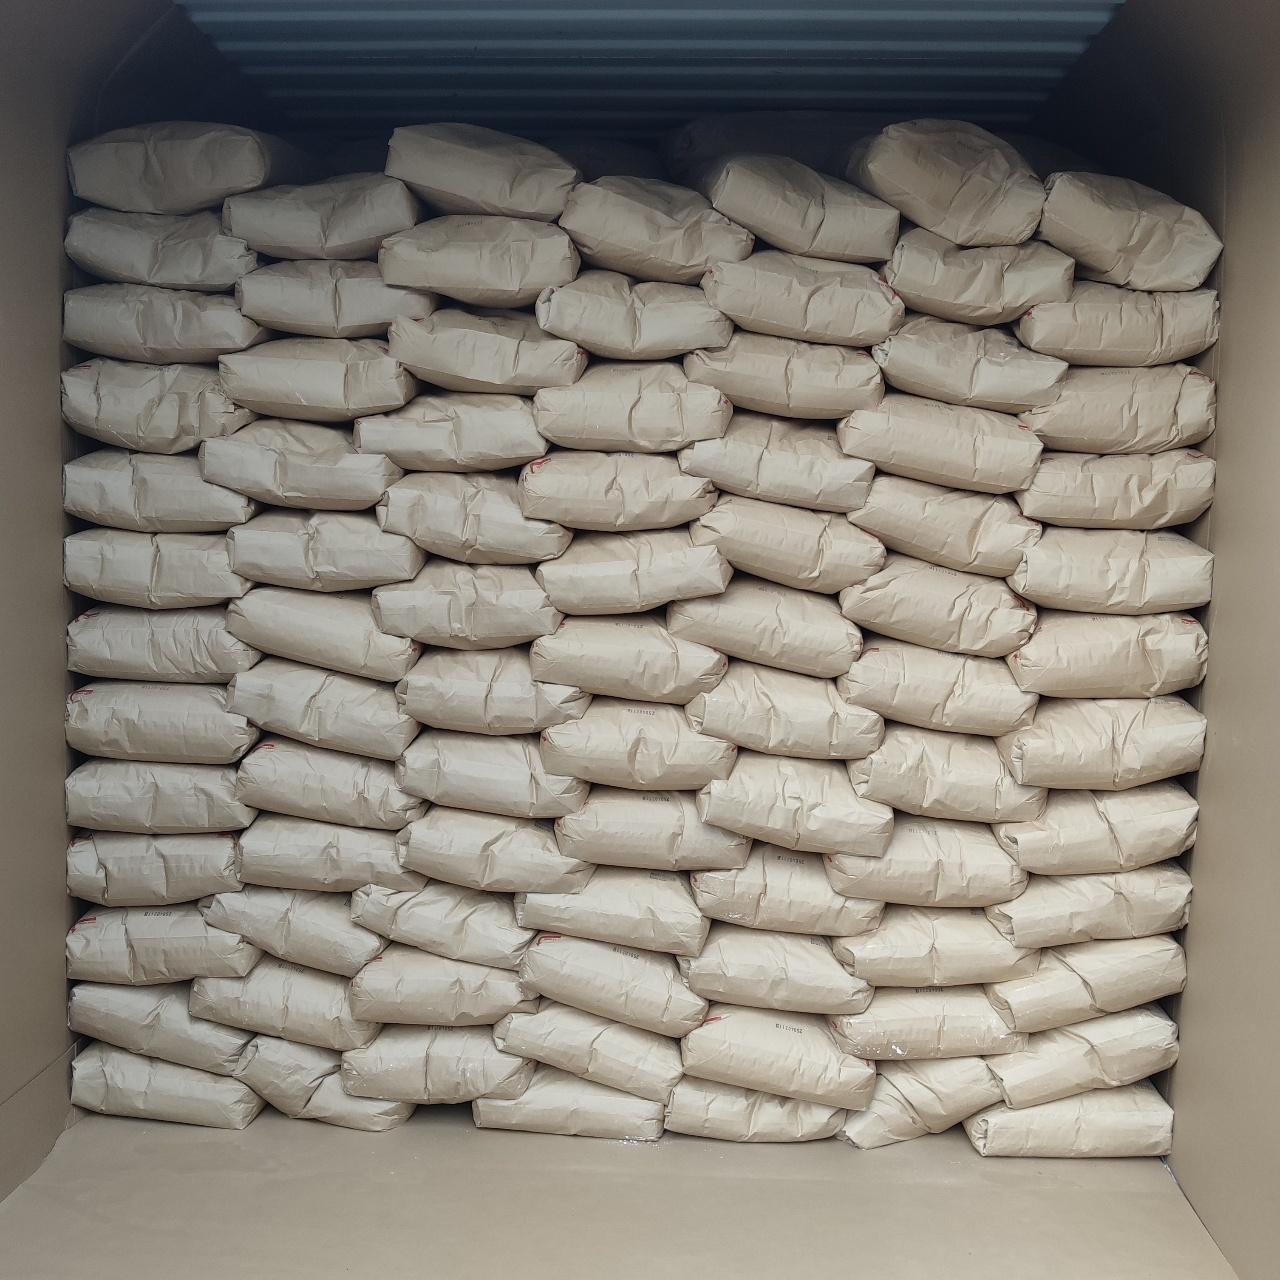sack: (842, 120, 1042, 246), (685, 154, 896, 260), (70, 122, 314, 212), (1036, 172, 1220, 286), (697, 750, 892, 855), (838, 392, 1039, 490), (682, 1005, 872, 1108), (668, 576, 860, 676), (560, 178, 750, 280), (838, 636, 1036, 734), (847, 724, 1044, 822), (842, 554, 1034, 654), (850, 474, 1039, 574), (680, 411, 872, 510), (229, 658, 416, 758), (520, 934, 706, 1036), (998, 696, 1204, 788), (686, 662, 881, 758), (493, 1000, 682, 1099), (986, 1005, 1175, 1104), (983, 937, 1184, 1030), (690, 493, 884, 590), (702, 250, 903, 342), (874, 314, 1064, 411), (880, 226, 1070, 324), (994, 779, 1196, 870), (388, 124, 576, 220), (380, 216, 578, 306), (536, 362, 731, 452), (64, 360, 254, 452), (229, 586, 420, 678), (532, 612, 726, 702), (826, 813, 1022, 903), (542, 697, 734, 788), (202, 420, 399, 508), (685, 332, 884, 418), (694, 842, 880, 934), (236, 736, 424, 828), (986, 862, 1190, 946), (1020, 365, 1214, 452), (1014, 280, 1216, 365), (388, 306, 588, 390), (377, 474, 570, 561), (1010, 527, 1210, 612), (680, 924, 870, 1012), (538, 527, 730, 614), (536, 272, 730, 358), (192, 956, 376, 1046), (399, 806, 590, 892), (238, 1036, 411, 1130), (1008, 612, 1206, 694), (399, 648, 588, 734), (70, 982, 250, 1073), (374, 558, 558, 646), (200, 886, 384, 974), (72, 1042, 263, 1126), (64, 284, 270, 362), (220, 338, 416, 420), (224, 173, 422, 254), (399, 730, 588, 813), (556, 787, 748, 869), (352, 880, 535, 966), (66, 448, 256, 530), (66, 207, 256, 290), (516, 869, 708, 949), (966, 1080, 1170, 1156), (229, 510, 422, 590), (835, 906, 1036, 982), (356, 392, 549, 470), (68, 904, 260, 982), (1016, 450, 1214, 526), (518, 452, 716, 527), (236, 260, 436, 334), (342, 1026, 535, 1102), (68, 606, 260, 682), (350, 944, 536, 1022), (68, 682, 258, 758), (474, 1064, 662, 1141), (66, 527, 248, 606), (840, 1058, 998, 1148), (830, 986, 1022, 1058), (236, 813, 420, 888), (68, 758, 254, 830), (68, 832, 240, 903), (666, 1076, 844, 1142)
